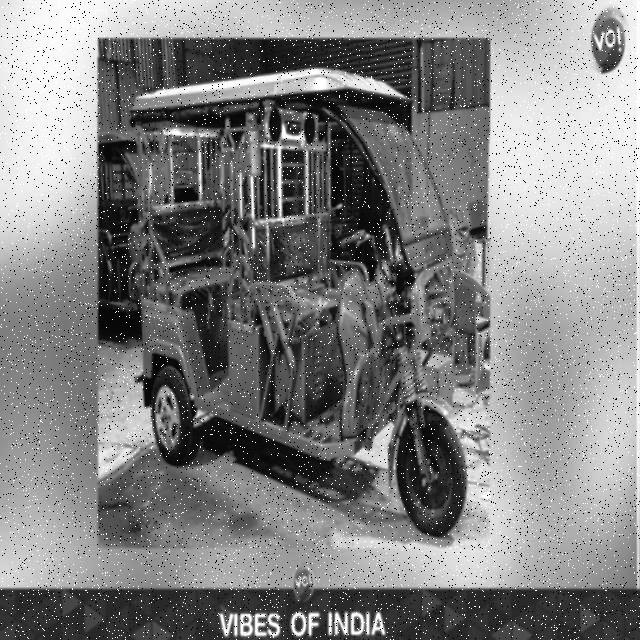Toto: (133, 65, 466, 535)
